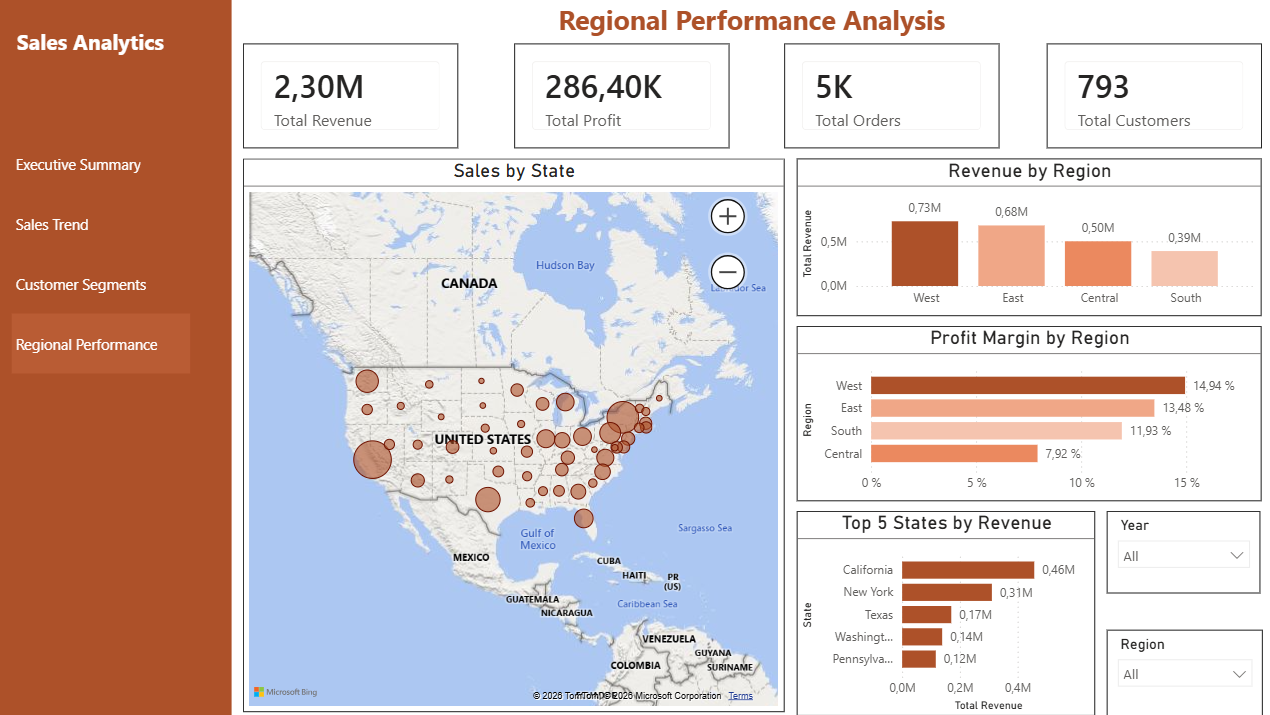

The page's visual inventory and layout, read from the dashboard file:
{"tool":"powerbi","page":{"name":"Regional Performance","canvas":[1280,720],"ordinal":3},"visuals":[{"type":"textbox","box":[245,0,1017.5,45],"z":0},{"type":"cardVisual","fields":{"Data":["Superstore.Total Revenue"]},"box":[245,47.5,215,105],"z":1000},{"type":"cardVisual","fields":{"Data":["Superstore.Total Profit"]},"box":[516.2,47.5,215,105],"z":2000},{"type":"cardVisual","fields":{"Data":["Superstore.Total Orders"]},"box":[786.2,47.5,215,105],"z":3000},{"type":"cardVisual","fields":{"Data":["Superstore.Total Customers"]},"box":[1048.8,47.5,215,105],"z":4000},{"type":"map","title":"Sales by State","fields":{"Category":["Superstore.State"],"Size":["Superstore.Total Revenue"]},"box":[245,162.5,541.2,553.8],"z":5000},{"type":"clusteredColumnChart","title":"Revenue by Region","fields":{"Category":["Superstore.Region"],"Y":["Superstore.Total Revenue"]},"box":[798.8,162.5,465,157.5],"z":6000},{"type":"clusteredBarChart","title":"Profit Margin by Region","fields":{"Category":["Superstore.Region"],"Y":["Superstore.Profit Margin %"]},"box":[798.8,330,465,175],"z":7000},{"type":"clusteredBarChart","title":"Top 5 States by Revenue","fields":{"Category":["Superstore.State"],"Y":["Superstore.Total Revenue"]},"box":[798.8,515,298.8,205],"z":8000},{"type":"slicer","fields":{"Values":["DateTable.Year"]},"box":[1108.8,515,153.8,82.5],"z":9000},{"type":"slicer","fields":{"Values":["Superstore.Region"]},"box":[1108.8,633.8,156.2,86.2],"z":10000},{"type":"shape","box":[0,0,233.8,720],"z":11000},{"type":"textbox","box":[13.8,26.2,202.5,38.8],"z":12000},{"type":"actionButton","box":[13.8,137.5,178.8,60],"z":13000},{"type":"actionButton","box":[13.8,197.5,178.8,60],"z":14000},{"type":"actionButton","box":[13.8,257.5,178.8,60],"z":15000},{"type":"actionButton","box":[13.8,317.5,178.8,60],"z":16000}]}

Visuals, with their boxes on the page's 1280x720 design canvas (x1, y1, x2, y2). These are canvas units, not pixel positions in the 1270x715 screenshot, which may show the page scaled, cropped or inside an application window:
textbox: (245, 0, 1262, 45)
cardVisual - Superstore.Total Revenue: (245, 48, 460, 152)
cardVisual - Superstore.Total Profit: (516, 48, 731, 152)
cardVisual - Superstore.Total Orders: (786, 48, 1001, 152)
cardVisual - Superstore.Total Customers: (1049, 48, 1264, 152)
"Sales by State" map: (245, 162, 786, 716)
"Revenue by Region" clusteredColumnChart: (799, 162, 1264, 320)
"Profit Margin by Region" clusteredBarChart: (799, 330, 1264, 505)
"Top 5 States by Revenue" clusteredBarChart: (799, 515, 1098, 720)
slicer - DateTable.Year: (1109, 515, 1263, 598)
slicer - Superstore.Region: (1109, 634, 1265, 720)
shape: (0, 0, 234, 720)
textbox: (14, 26, 216, 65)
actionButton: (14, 138, 193, 198)
actionButton: (14, 198, 193, 258)
actionButton: (14, 258, 193, 318)
actionButton: (14, 318, 193, 378)
